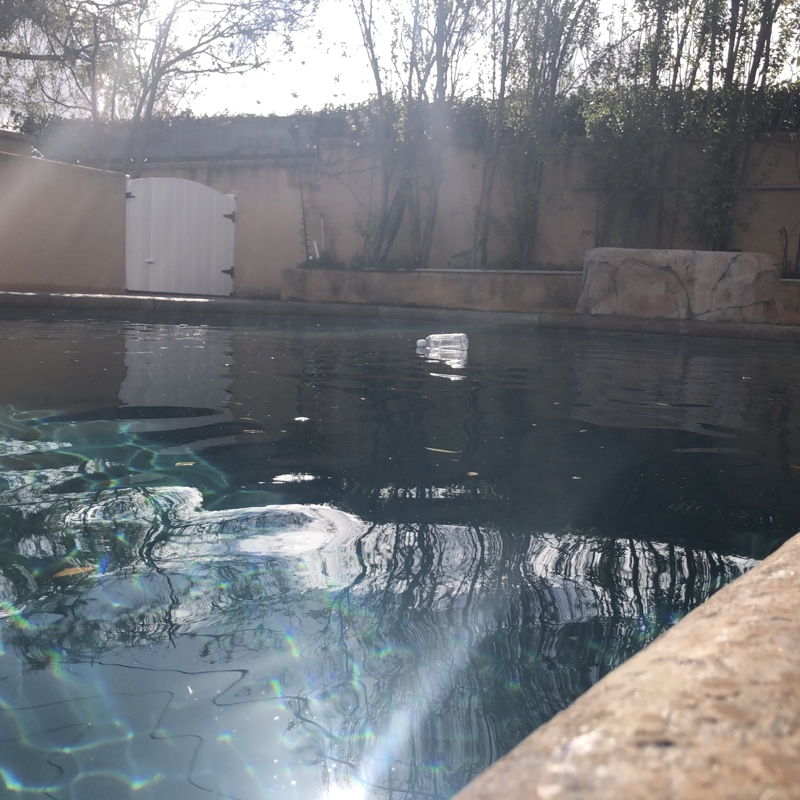Plastic Bottle: (415, 333, 469, 350)
